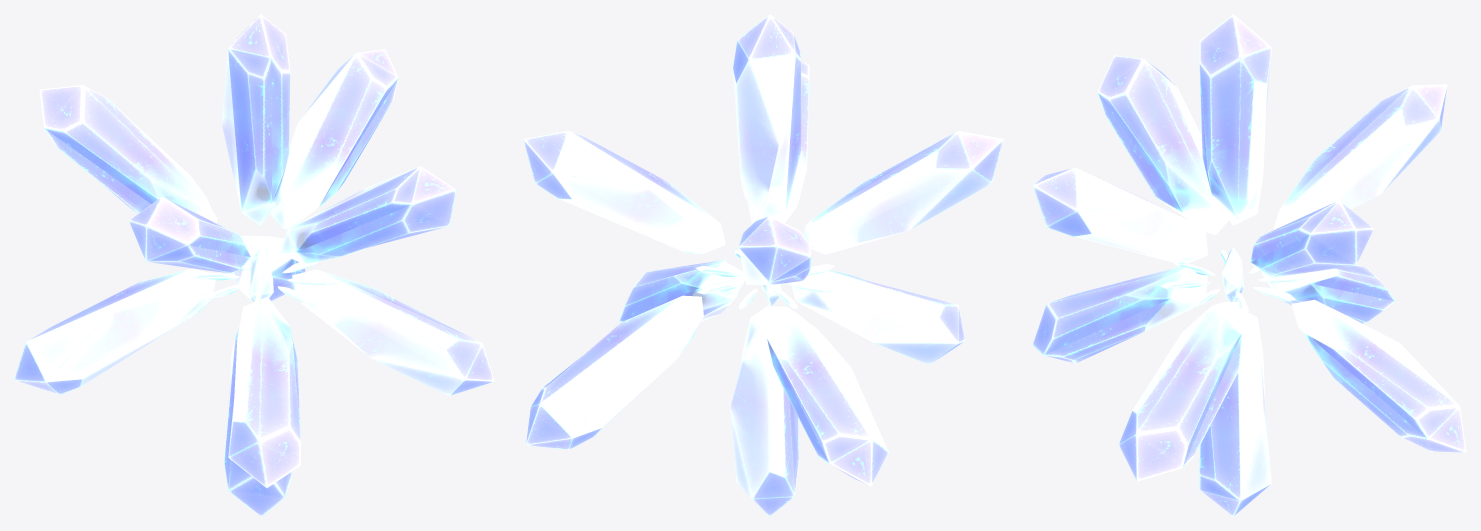
File: LightCrystalsIDLE.fbx
3 renders of one model, left to right at view 1: azimuth 30°, elevation 25°; view 2: azimuth 150°, elevation 25°; view 3: azimuth 270°, elevation 25°, orthographic.
Visible parts, largest first — view 1: Cube.050, Cube.051, Cube.072, Cube.048, Cube.041, Cube.044, Cube.070, Cube.071, Cube.043, Cube.039, Cube.038; view 2: Cube.050, Cube.072, Cube.071, Cube.048, Cube.043, Cube.044, Cube.041, Cube.051, Cube.039, Cube.070; view 3: Cube.050, Cube.051, Cube.048, Cube.071, Cube.041, Cube.070, Cube.044, Cube.043, Cube.072, Cube.039, Cube.038.
Boxes of the visible parts, left/top/right/bottom form: Cube.050: left=14, top=235, right=305, bottom=394; Cube.051: left=292, top=269, right=494, bottom=396; Cube.072: left=270, top=49, right=398, bottom=229; Cube.048: left=221, top=14, right=290, bottom=225; Cube.041: left=39, top=85, right=217, bottom=223; Cube.044: left=228, top=296, right=300, bottom=487; Cube.070: left=280, top=166, right=456, bottom=264; Cube.071: left=129, top=196, right=250, bottom=273; Cube.043: left=224, top=329, right=292, bottom=516; Cube.039: left=188, top=246, right=338, bottom=310; Cube.038: left=249, top=247, right=273, bottom=300; Cube.050: left=526, top=295, right=888, bottom=486; Cube.072: left=523, top=130, right=725, bottom=254; Cube.071: left=803, top=131, right=1003, bottom=254; Cube.048: left=733, top=14, right=801, bottom=220; Cube.043: left=730, top=305, right=799, bottom=516; Cube.044: left=791, top=266, right=964, bottom=364; Cube.041: left=738, top=216, right=811, bottom=284; Cube.051: left=619, top=259, right=745, bottom=322; Cube.039: left=695, top=249, right=836, bottom=309; Cube.070: left=748, top=60, right=809, bottom=223; Cube.050: left=1261, top=265, right=1466, bottom=452; Cube.051: left=1118, top=302, right=1241, bottom=481; Cube.048: left=1199, top=14, right=1271, bottom=225; Cube.071: left=1097, top=55, right=1228, bottom=234; Cube.041: left=1273, top=84, right=1447, bottom=230; Cube.070: left=1032, top=167, right=1207, bottom=264; Cube.044: left=1032, top=267, right=1207, bottom=363; Cube.043: left=1199, top=308, right=1271, bottom=516; Cube.072: left=1250, top=200, right=1373, bottom=277; Cube.039: left=1160, top=249, right=1308, bottom=312; Cube.038: left=1221, top=246, right=1244, bottom=301.
Size of the model in its own units: 536 by 716 by 561.
